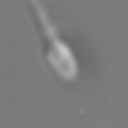normal: (19, 2, 56, 45)
